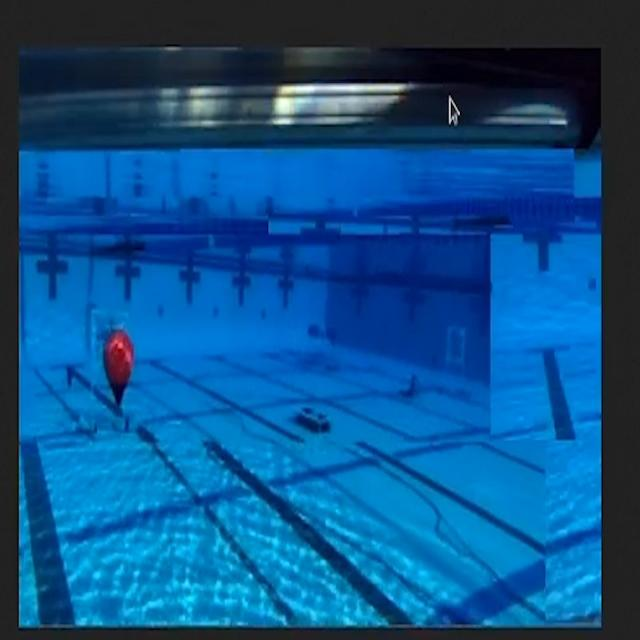Buoy: (88, 318, 154, 425)
